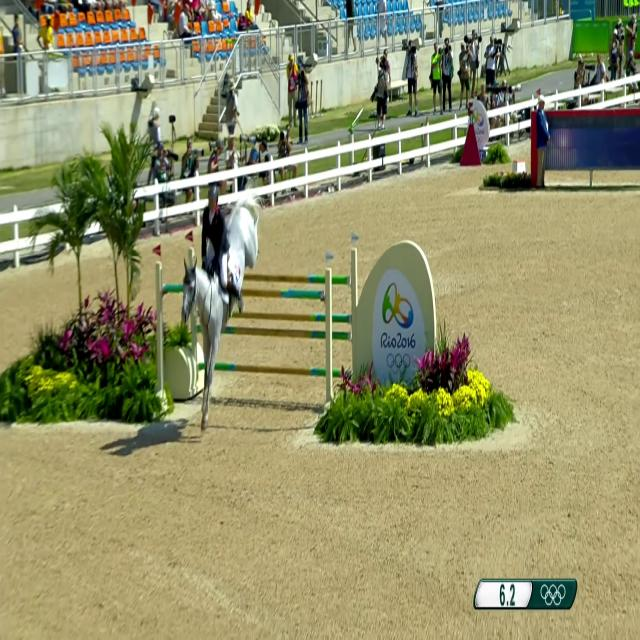Horse Jumping: (174, 176, 278, 336)
